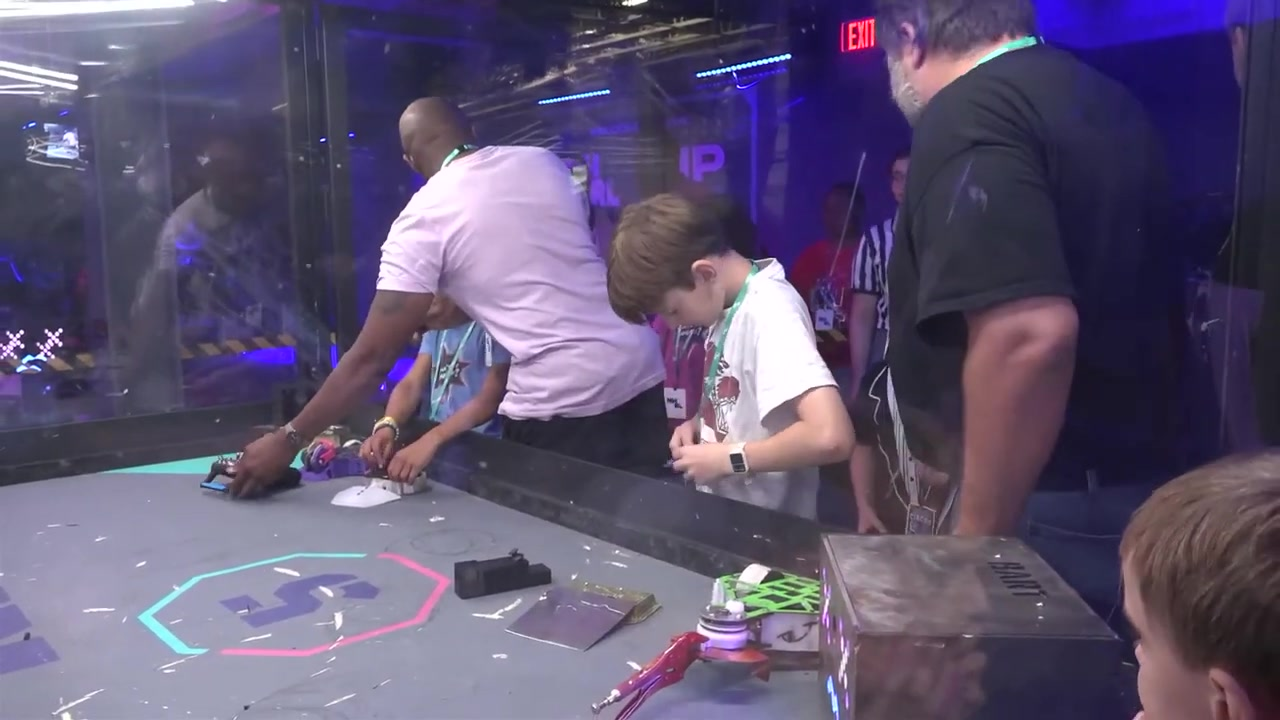combatbot: (698, 567, 828, 675), (292, 436, 369, 483)
debris: (507, 585, 662, 655)
housebot: (819, 534, 1122, 720)
minibot: (331, 479, 395, 508)
